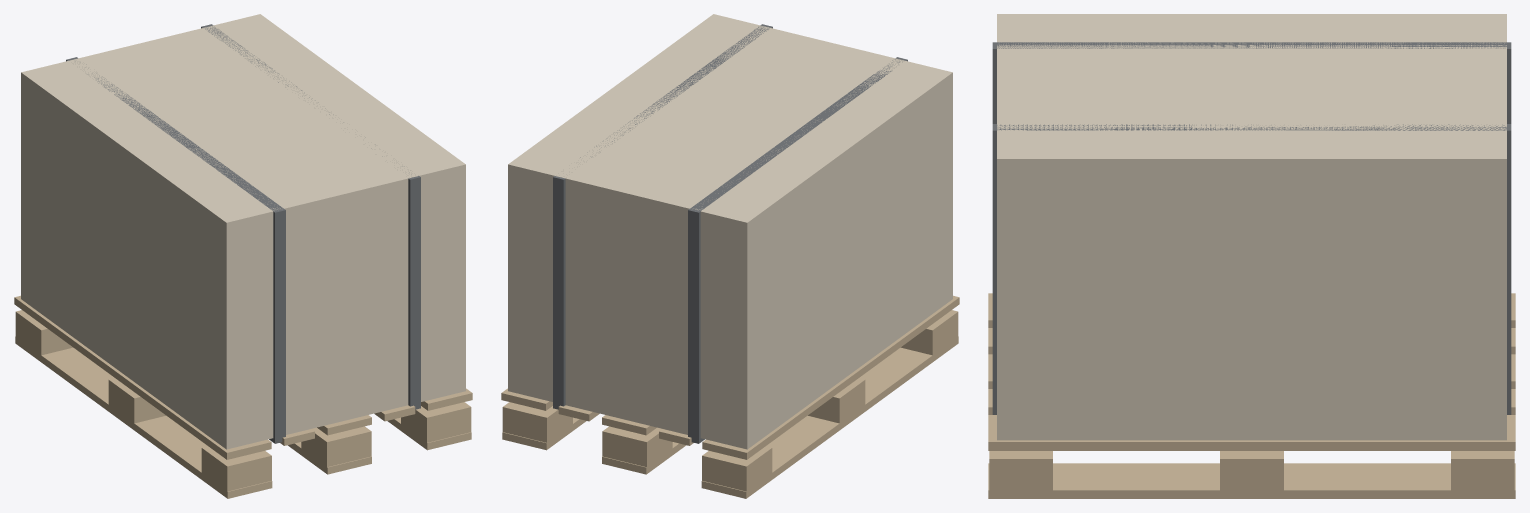
Rendered from unit_game_fragile_1200x800x850_600kg_v14.glb.
The picture shows the model from 3 angles, left to right: view 1: azimuth 30°, elevation 25°; view 2: azimuth 150°, elevation 25°; view 3: azimuth 270°, elevation 25°; orthographic projection. The views are drawn at different scales.
Parts seen in each view (by area): view 1: FRAGILE_CARTON, FRAGPAL_BOTTOM_0, FRAGILE_BAND_-0.22, FRAGILE_BAND_0.22, FRAGPAL_TOP_0, FRAGPAL_BLOCK_0_2, FRAGPAL_BLOCK_1_2, FRAGPAL_BLOCK_2_2, FRAGPAL_BLOCK_0_0, FRAGPAL_BLOCK_0_1, FRAGPAL_BOTTOM_1, FRAGPAL_BOTTOM_2 (+2 smaller); view 2: FRAGILE_CARTON, FRAGPAL_BOTTOM_0, FRAGILE_BAND_-0.22, FRAGILE_BAND_0.22, FRAGPAL_TOP_0, FRAGPAL_BLOCK_0_0, FRAGPAL_BLOCK_1_0, FRAGPAL_BLOCK_2_0, FRAGPAL_BLOCK_0_1, FRAGPAL_BLOCK_0_2, FRAGPAL_BOTTOM_1, FRAGPAL_BOTTOM_2 (+2 smaller); view 3: FRAGILE_CARTON, FRAGPAL_BOTTOM_2, FRAGPAL_TOP_4, FRAGILE_BAND_0.22, FRAGILE_BAND_-0.22, FRAGPAL_BLOCK_2_0, FRAGPAL_BLOCK_2_1, FRAGPAL_BLOCK_2_2.
Part boxes in pixels (x1=…): FRAGILE_CARTON: x1=21, y1=14, x2=465, y2=449; FRAGPAL_BOTTOM_0: x1=15, y1=336, x2=272, y2=498; FRAGILE_BAND_-0.22: x1=66, y1=57, x2=285, y2=443; FRAGILE_BAND_0.22: x1=201, y1=24, x2=420, y2=409; FRAGPAL_TOP_0: x1=14, y1=295, x2=271, y2=459; FRAGPAL_BLOCK_0_2: x1=201, y1=446, x2=271, y2=491; FRAGPAL_BLOCK_1_2: x1=301, y1=426, x2=371, y2=467; FRAGPAL_BLOCK_2_2: x1=401, y1=402, x2=471, y2=442; FRAGPAL_BLOCK_0_0: x1=15, y1=310, x2=72, y2=355; FRAGPAL_BLOCK_0_1: x1=108, y1=378, x2=165, y2=423; FRAGPAL_BOTTOM_1: x1=288, y1=442, x2=371, y2=474; FRAGPAL_BOTTOM_2: x1=387, y1=417, x2=471, y2=450; FRAGILE_CARTON: x1=508, y1=14, x2=952, y2=449; FRAGPAL_BOTTOM_0: x1=701, y1=336, x2=958, y2=498; FRAGILE_BAND_-0.22: x1=688, y1=57, x2=907, y2=443; FRAGILE_BAND_0.22: x1=553, y1=24, x2=772, y2=409; FRAGPAL_TOP_0: x1=702, y1=295, x2=959, y2=459; FRAGPAL_BLOCK_0_0: x1=702, y1=446, x2=772, y2=491; FRAGPAL_BLOCK_1_0: x1=602, y1=426, x2=672, y2=467; FRAGPAL_BLOCK_2_0: x1=502, y1=402, x2=572, y2=442; FRAGPAL_BLOCK_0_1: x1=808, y1=378, x2=865, y2=423; FRAGPAL_BLOCK_0_2: x1=901, y1=310, x2=958, y2=355; FRAGPAL_BOTTOM_1: x1=602, y1=442, x2=685, y2=474; FRAGPAL_BOTTOM_2: x1=502, y1=417, x2=586, y2=450; FRAGILE_CARTON: x1=997, y1=14, x2=1506, y2=440; FRAGPAL_BOTTOM_2: x1=988, y1=463, x2=1515, y2=498; FRAGPAL_TOP_4: x1=988, y1=415, x2=1515, y2=450; FRAGILE_BAND_0.22: x1=992, y1=124, x2=1511, y2=414; FRAGILE_BAND_-0.22: x1=992, y1=42, x2=1511, y2=123; FRAGPAL_BLOCK_2_0: x1=1451, y1=451, x2=1514, y2=490; FRAGPAL_BLOCK_2_1: x1=1220, y1=451, x2=1283, y2=490; FRAGPAL_BLOCK_2_2: x1=989, y1=451, x2=1052, y2=490.
Size of the model in its own units: 0.8 by 0.85 by 1.2.
